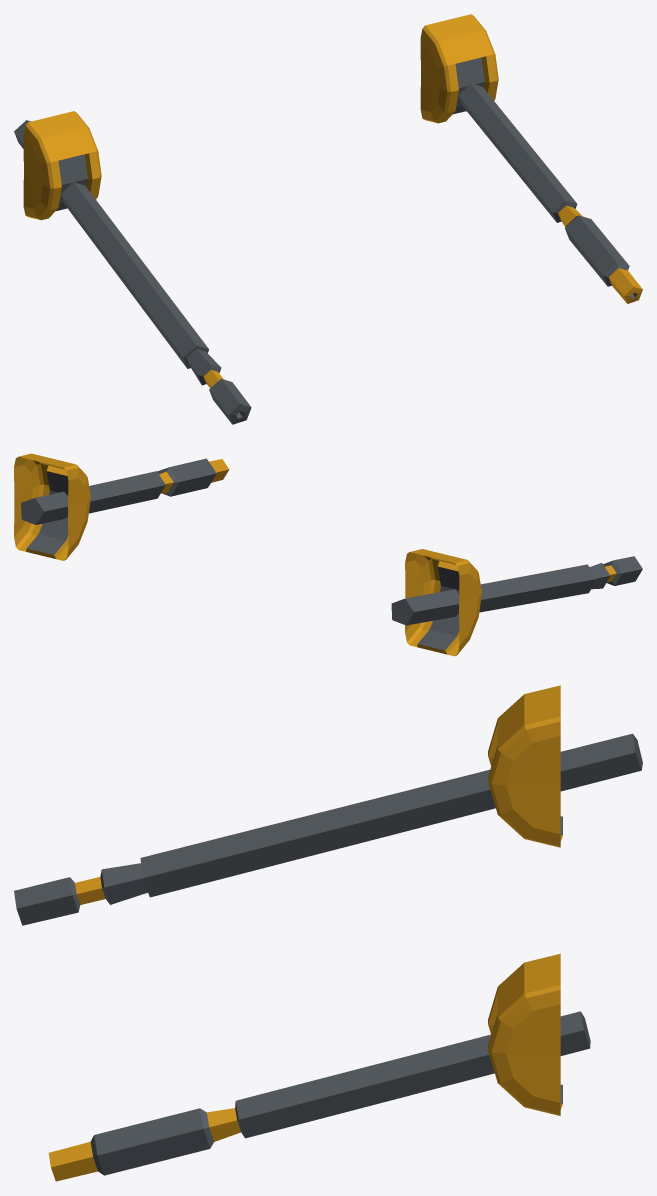
The model's file is Dropship_05_Secondary_Artillery_Yellow.fbx.
The picture shows the model from 3 angles, top to bottom: view 1: azimuth 30°, elevation 25°; view 2: azimuth 150°, elevation 25°; view 3: azimuth 270°, elevation 25°; orthographic projection. The views are drawn at different scales.
Parts seen in each view (by area): view 1: Dropship_05_Secondary_Artillery_Yellow; view 2: Dropship_05_Secondary_Artillery_Yellow; view 3: Dropship_05_Secondary_Artillery_Yellow.
Boxes of the visible parts, x1,y1,x2,y2 form: Dropship_05_Secondary_Artillery_Yellow: [14, 14, 642, 424]; Dropship_05_Secondary_Artillery_Yellow: [14, 453, 642, 656]; Dropship_05_Secondary_Artillery_Yellow: [14, 685, 642, 1181].
Bounding box in the file's own units: 307 × 106 × 267.
1 material, 1 textured.
